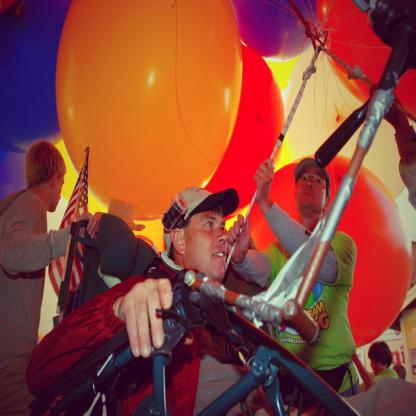face: (186, 204, 229, 279), (297, 165, 327, 213)
